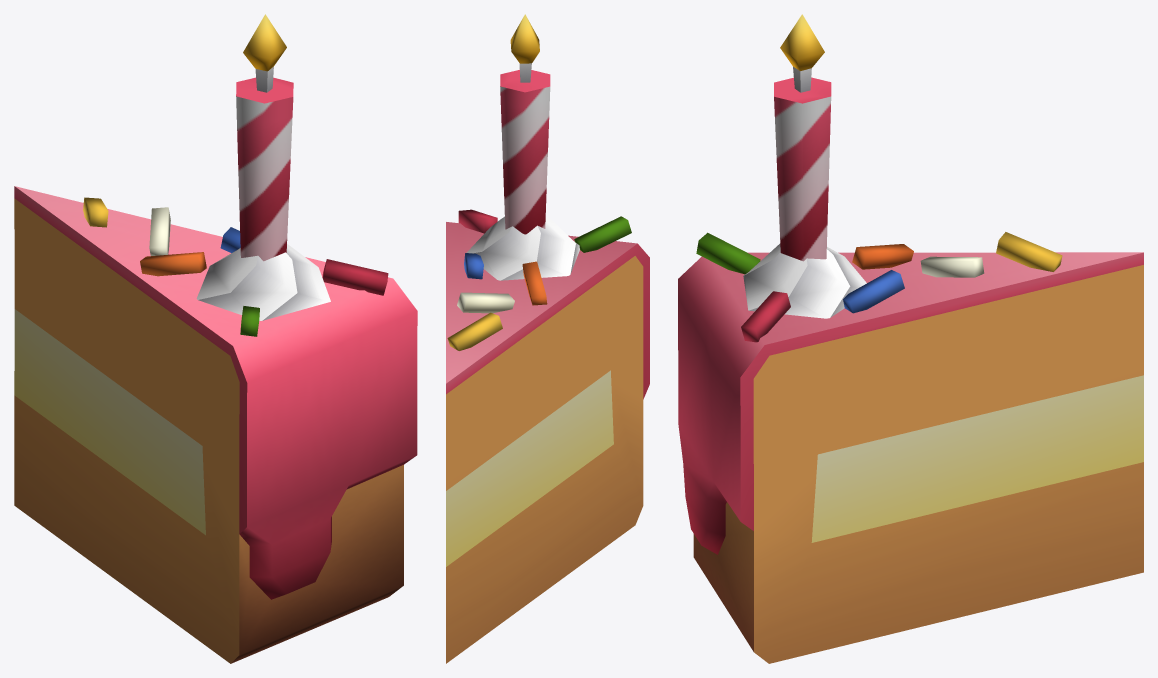
The model's file is m_BirthdayCake01_Slice02.fbx.
The picture shows the model from 3 angles, left to right: view 1: azimuth 30°, elevation 25°; view 2: azimuth 150°, elevation 25°; view 3: azimuth 270°, elevation 25°; orthographic projection. The views are drawn at different scales.
Visible parts, largest first — view 1: m_BirthdayCake01_Slice02; view 2: m_BirthdayCake01_Slice02; view 3: m_BirthdayCake01_Slice02.
Boxes of the visible parts, box(x1,y1,x2,y2) form: m_BirthdayCake01_Slice02: box(14, 14, 417, 663); m_BirthdayCake01_Slice02: box(446, 14, 649, 663); m_BirthdayCake01_Slice02: box(678, 14, 1143, 663).
Bounding box in the file's own units: 7.24 × 20.5 × 14.48.
